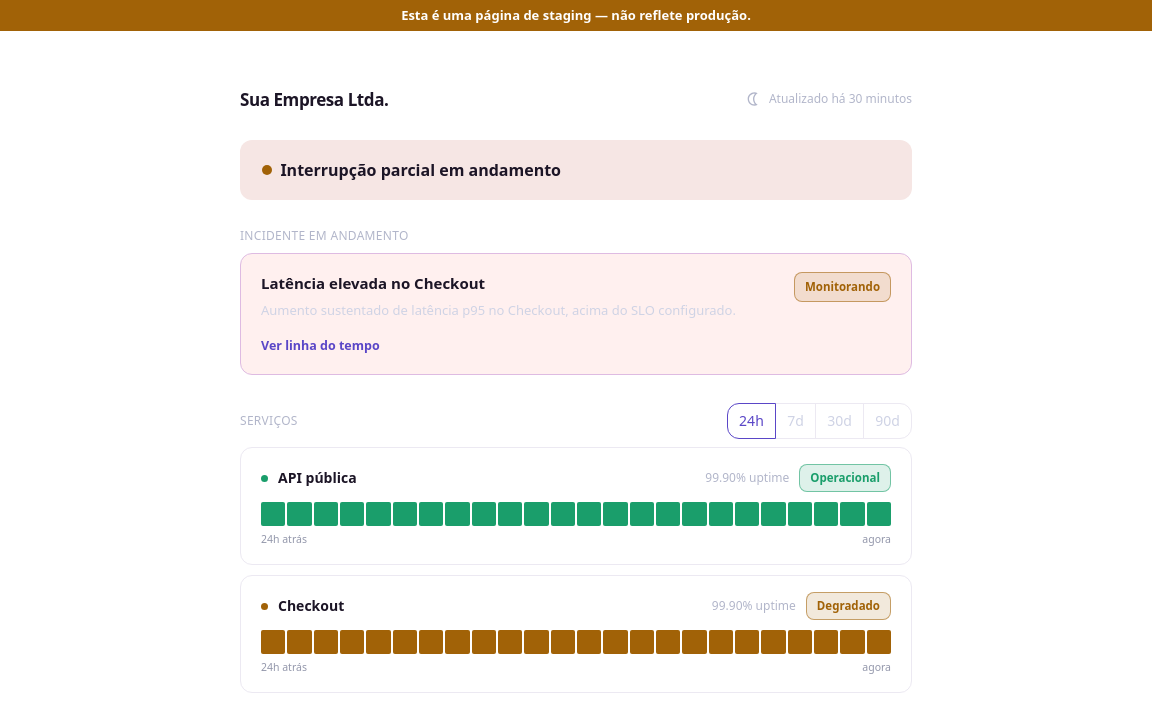
PublicStatusPage › page with an active incident shows the card at the top and allows expanding the timeline
Check: the heading "Incidente em andamento" is shown, box [240,227,409,244]
Check: the text "Latência elevada no Checkout" is shown, box [261,273,485,293]
Click the button "Ver linha do tempo": (320, 347) [261,337,380,356]
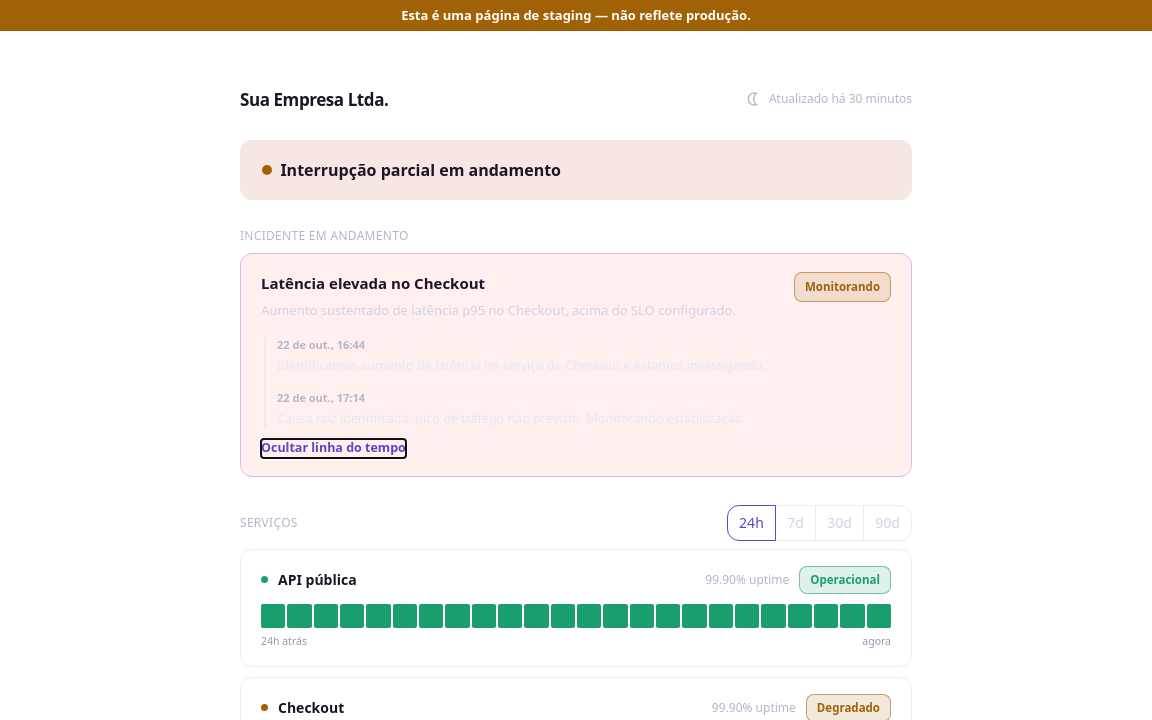
Check: the text "Causa raiz identificada: pico de tráfego não previsto. Monitorando estabilização." is shown, box [277,410,745,426]
